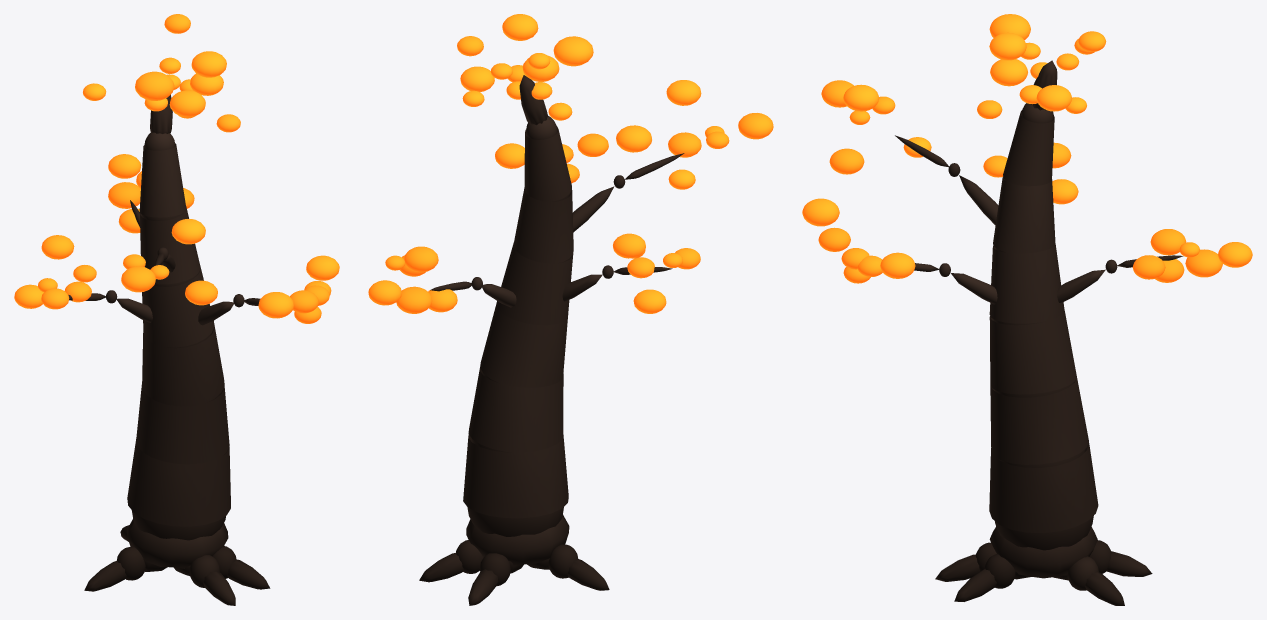
Rendered from tree_a.glb.
3 renders of one model, left to right at view 1: azimuth 30°, elevation 25°; view 2: azimuth 150°, elevation 25°; view 3: azimuth 270°, elevation 25°, orthographic. The views are drawn at different scales.
Parts seen in each view (by area): view 1: tree_a_trunk, tree_a_embers; view 2: tree_a_trunk, tree_a_embers; view 3: tree_a_trunk, tree_a_embers.
Boxes of the visible parts, bbox=[...] form: tree_a_trunk: bbox=[68, 94, 270, 605]; tree_a_embers: bbox=[14, 14, 339, 323]; tree_a_trunk: bbox=[419, 75, 684, 605]; tree_a_embers: bbox=[368, 14, 773, 313]; tree_a_trunk: bbox=[895, 60, 1183, 605]; tree_a_embers: bbox=[802, 14, 1252, 283].
Bounding box in the file's own units: 4.51 × 9.31 × 6.82.
